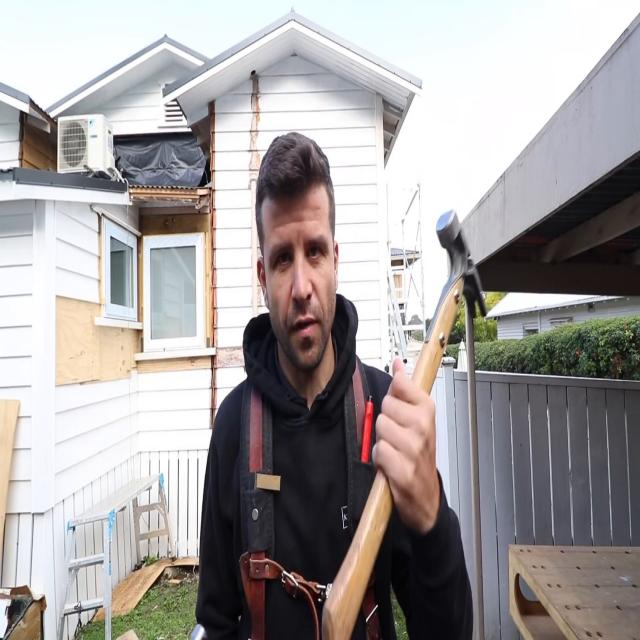hammer: (321, 209, 486, 640)
